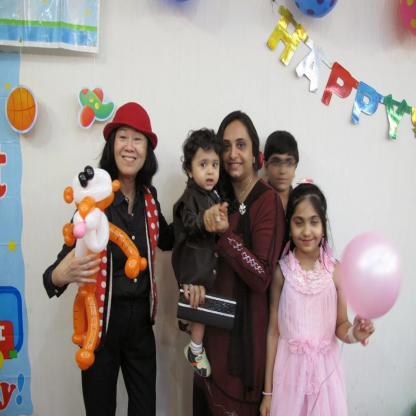face: (116, 121, 147, 176), (224, 123, 255, 178), (294, 200, 325, 254), (194, 147, 221, 191), (268, 148, 295, 192)
